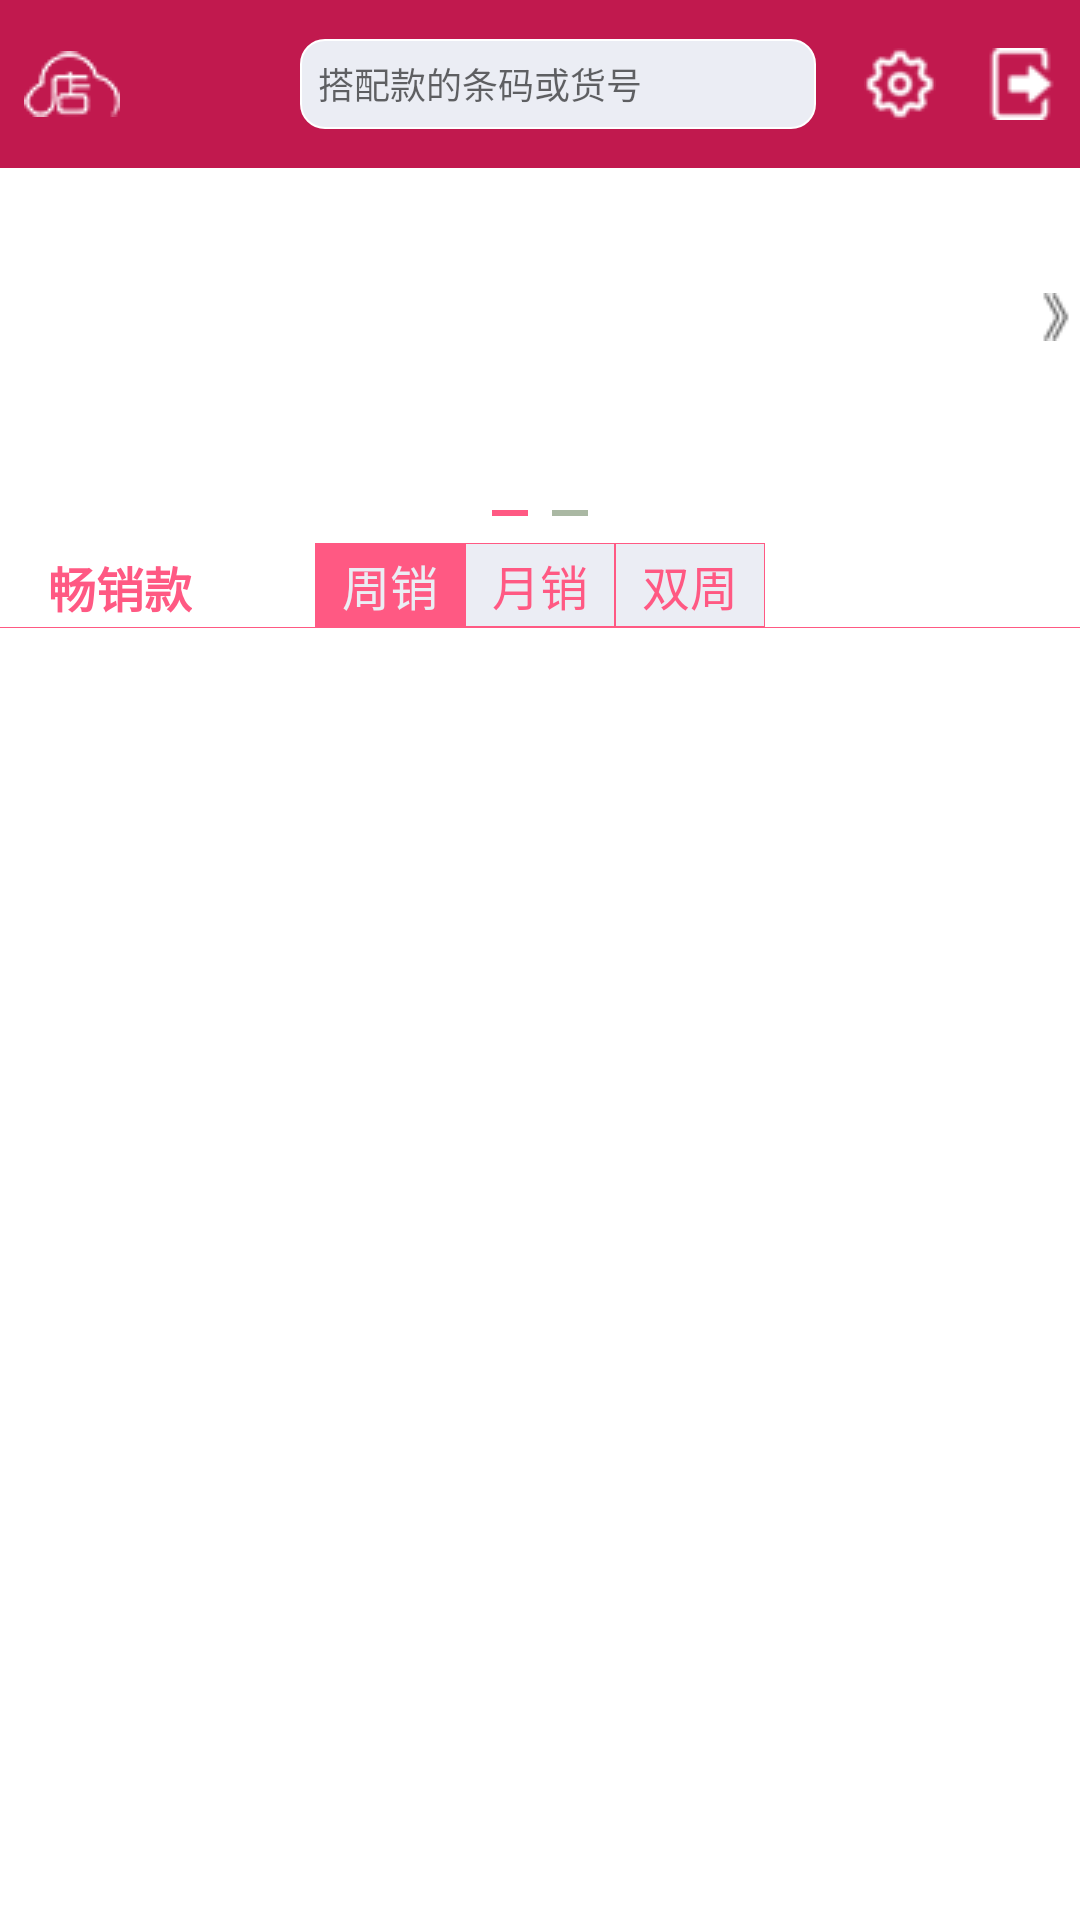

Where to tap for icons on this 1080px x 1920px app screen, as (x,y):
exit: (1021,84)
right: (1056,317)
settings: (900,84)
